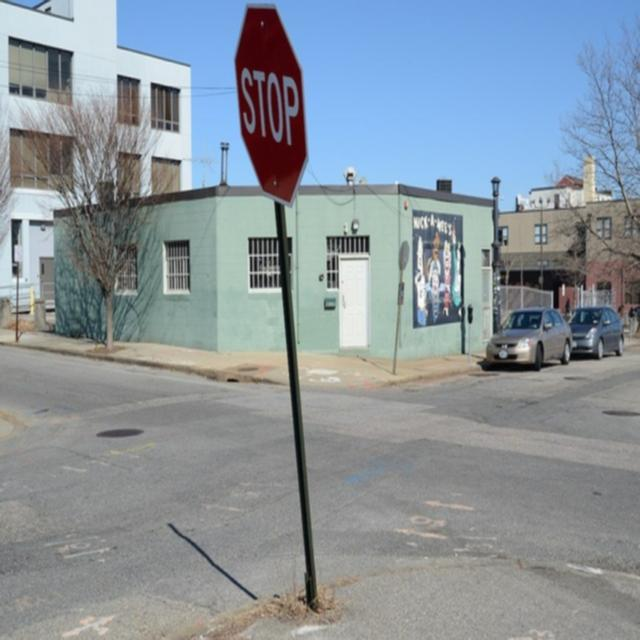car: (484, 305, 571, 368), (566, 303, 623, 358)
pole: (275, 200, 318, 606), (490, 195, 501, 329), (390, 269, 403, 371)
